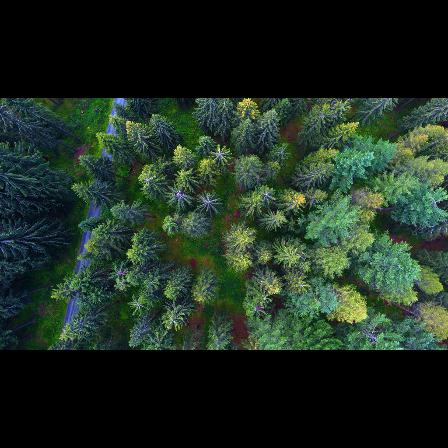Sick: (165, 181, 194, 211), (196, 189, 224, 218), (208, 143, 233, 170), (128, 294, 153, 320), (257, 186, 279, 207), (110, 261, 129, 284), (272, 142, 293, 162)
